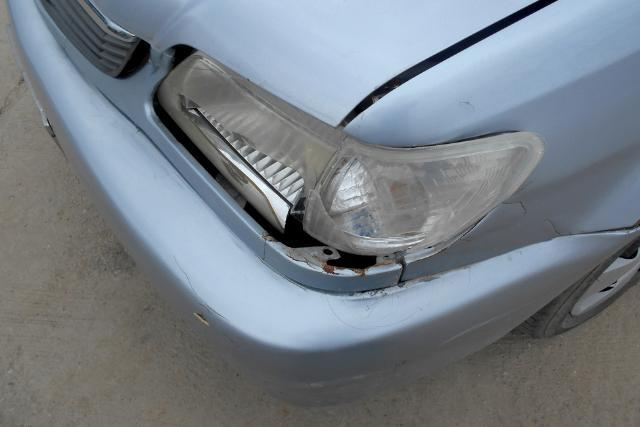Light: (152, 43, 495, 287)
